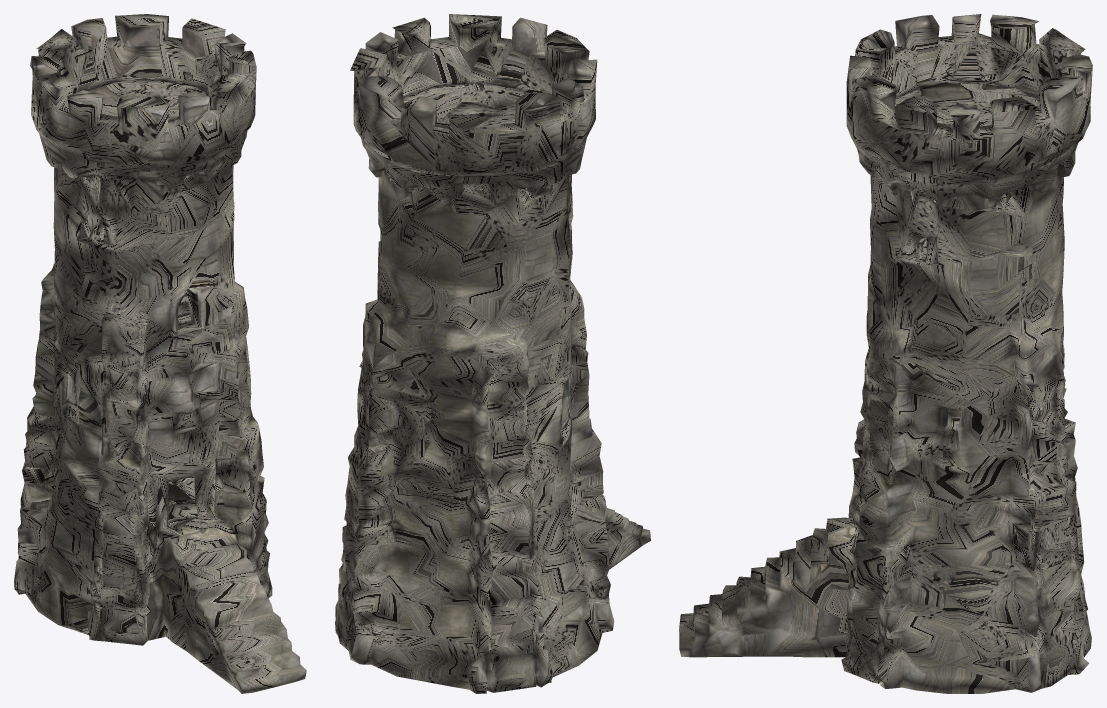
The model's file is gt_stone.glb.
The picture shows the model from 3 angles, left to right: view 1: azimuth 30°, elevation 25°; view 2: azimuth 150°, elevation 25°; view 3: azimuth 270°, elevation 25°; orthographic projection. The views are drawn at different scales.
Visible parts, largest first — view 1: gt_stone; view 2: gt_stone; view 3: gt_stone.
Boxes of the visible parts, x1=… form: gt_stone: x1=14, y1=14, x2=306, y2=693; gt_stone: x1=335, y1=14, x2=650, y2=693; gt_stone: x1=679, y1=14, x2=1092, y2=693.
Size of the model in its own units: 0.7609 by 1.9 by 1.23.
Materials: 1 (1 with a texture image).
